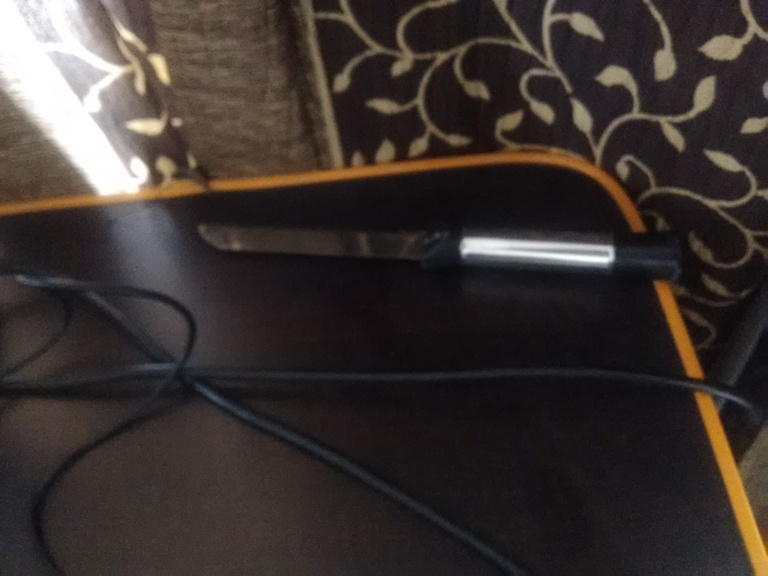knife: (198, 217, 681, 281)
